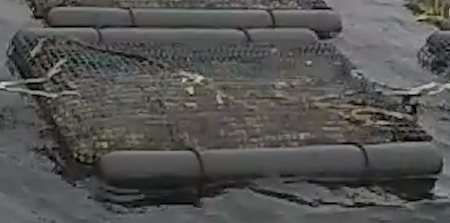bag: (5, 27, 443, 188)
